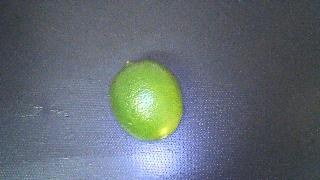EXPORTACION: (110, 60, 183, 141)
